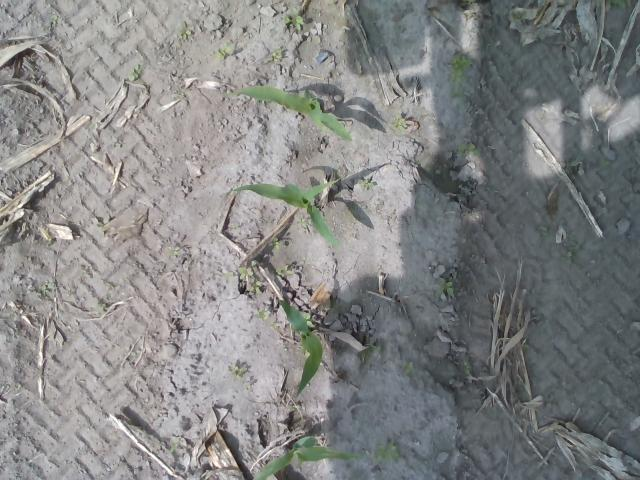Maize: (232, 175, 338, 250), (223, 85, 353, 142), (276, 296, 324, 400), (255, 436, 366, 480)
Weeds: (449, 54, 475, 95), (375, 442, 400, 464), (222, 266, 255, 281), (458, 142, 481, 162), (564, 158, 586, 177), (558, 251, 578, 267), (214, 44, 234, 60), (275, 264, 294, 278), (280, 14, 304, 25), (230, 364, 247, 378), (440, 280, 454, 297), (128, 64, 142, 80), (246, 279, 262, 293), (266, 51, 282, 63), (360, 178, 374, 191), (40, 282, 55, 294), (462, 360, 472, 375), (256, 310, 270, 320), (403, 361, 413, 375), (168, 442, 178, 456), (268, 237, 280, 248), (179, 30, 192, 40), (370, 344, 383, 354), (394, 118, 405, 129), (169, 246, 181, 256), (296, 217, 309, 226), (304, 313, 312, 326)
